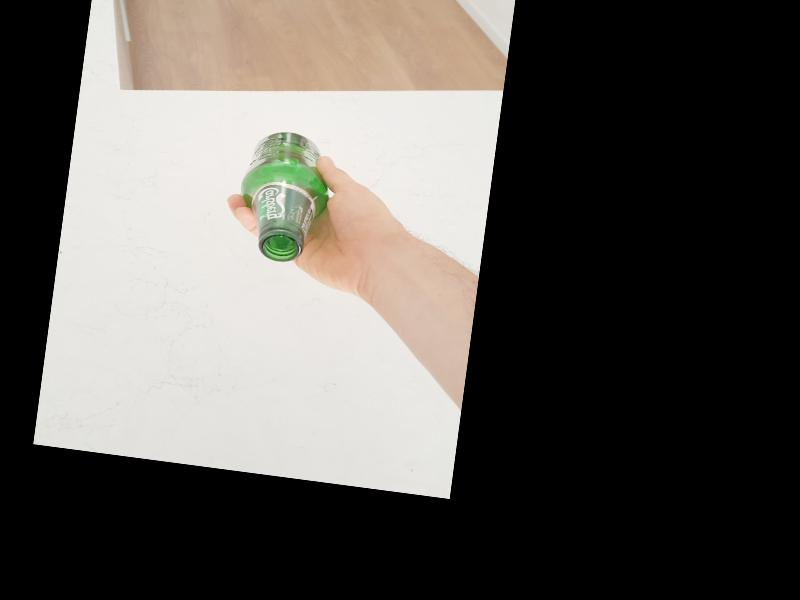Beer: (233, 126, 334, 266)
